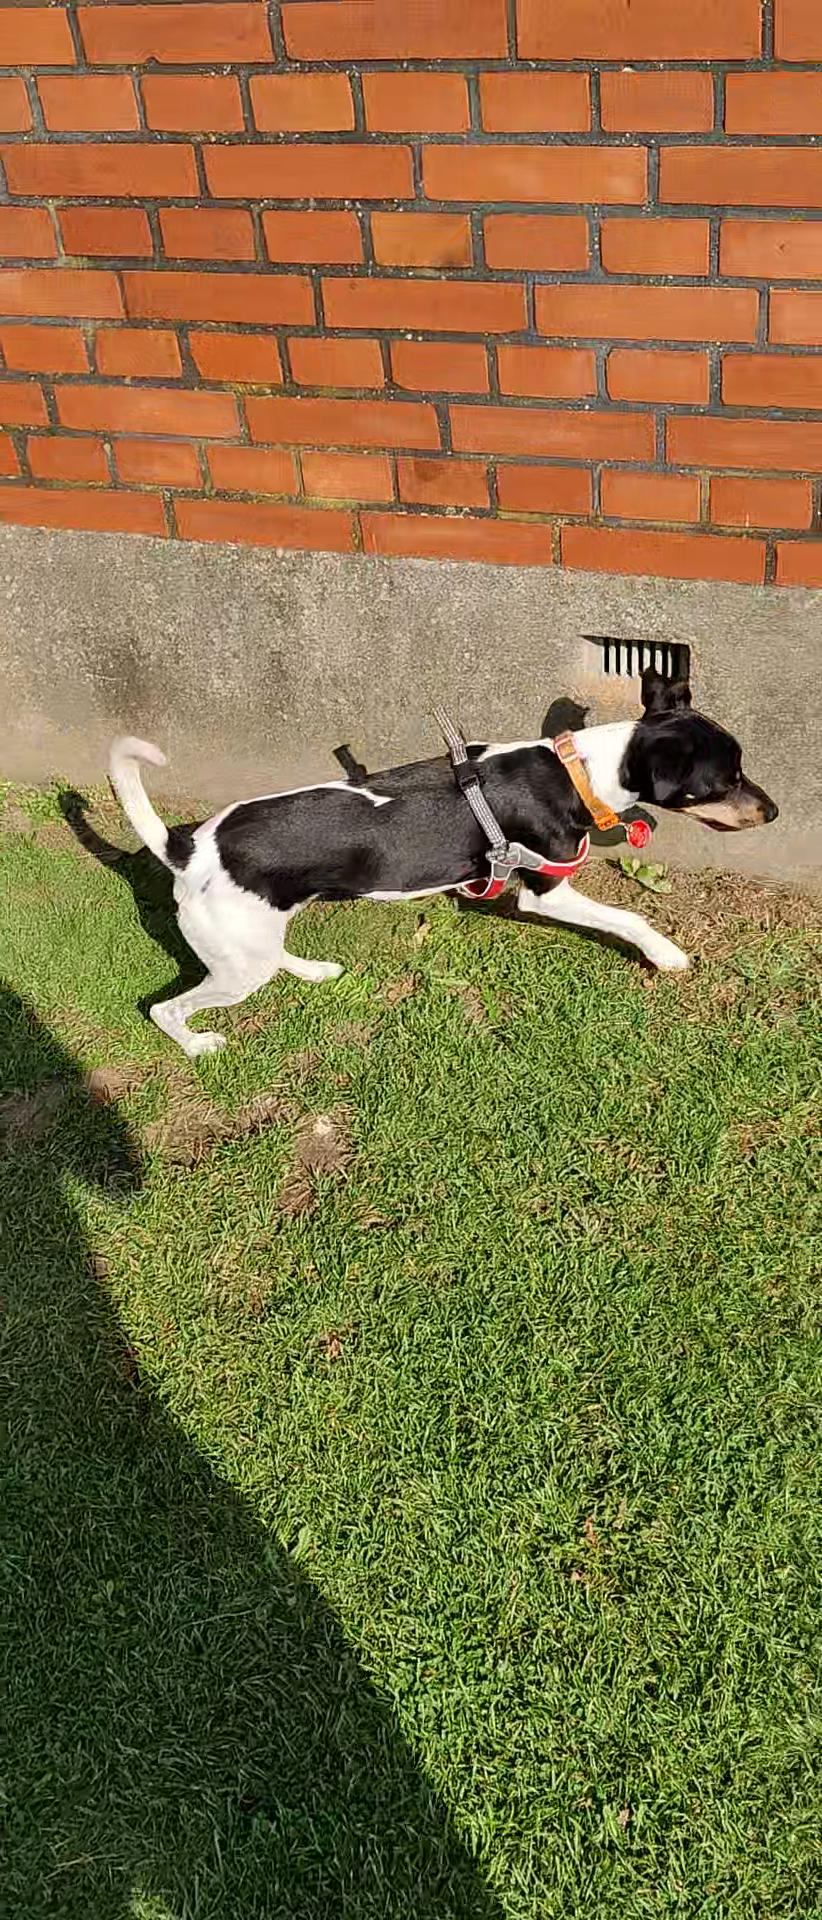Dog: (91, 662, 786, 1071)
